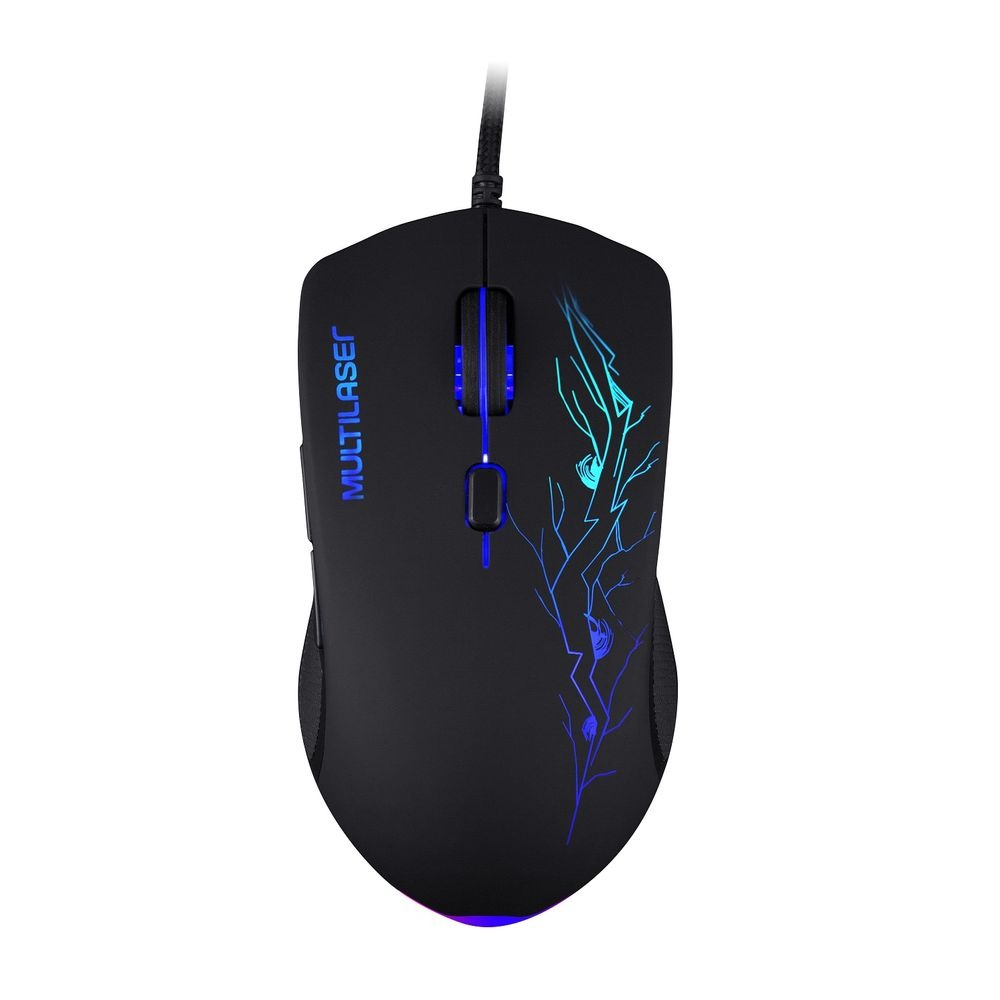mouse: (288, 193, 703, 934)
